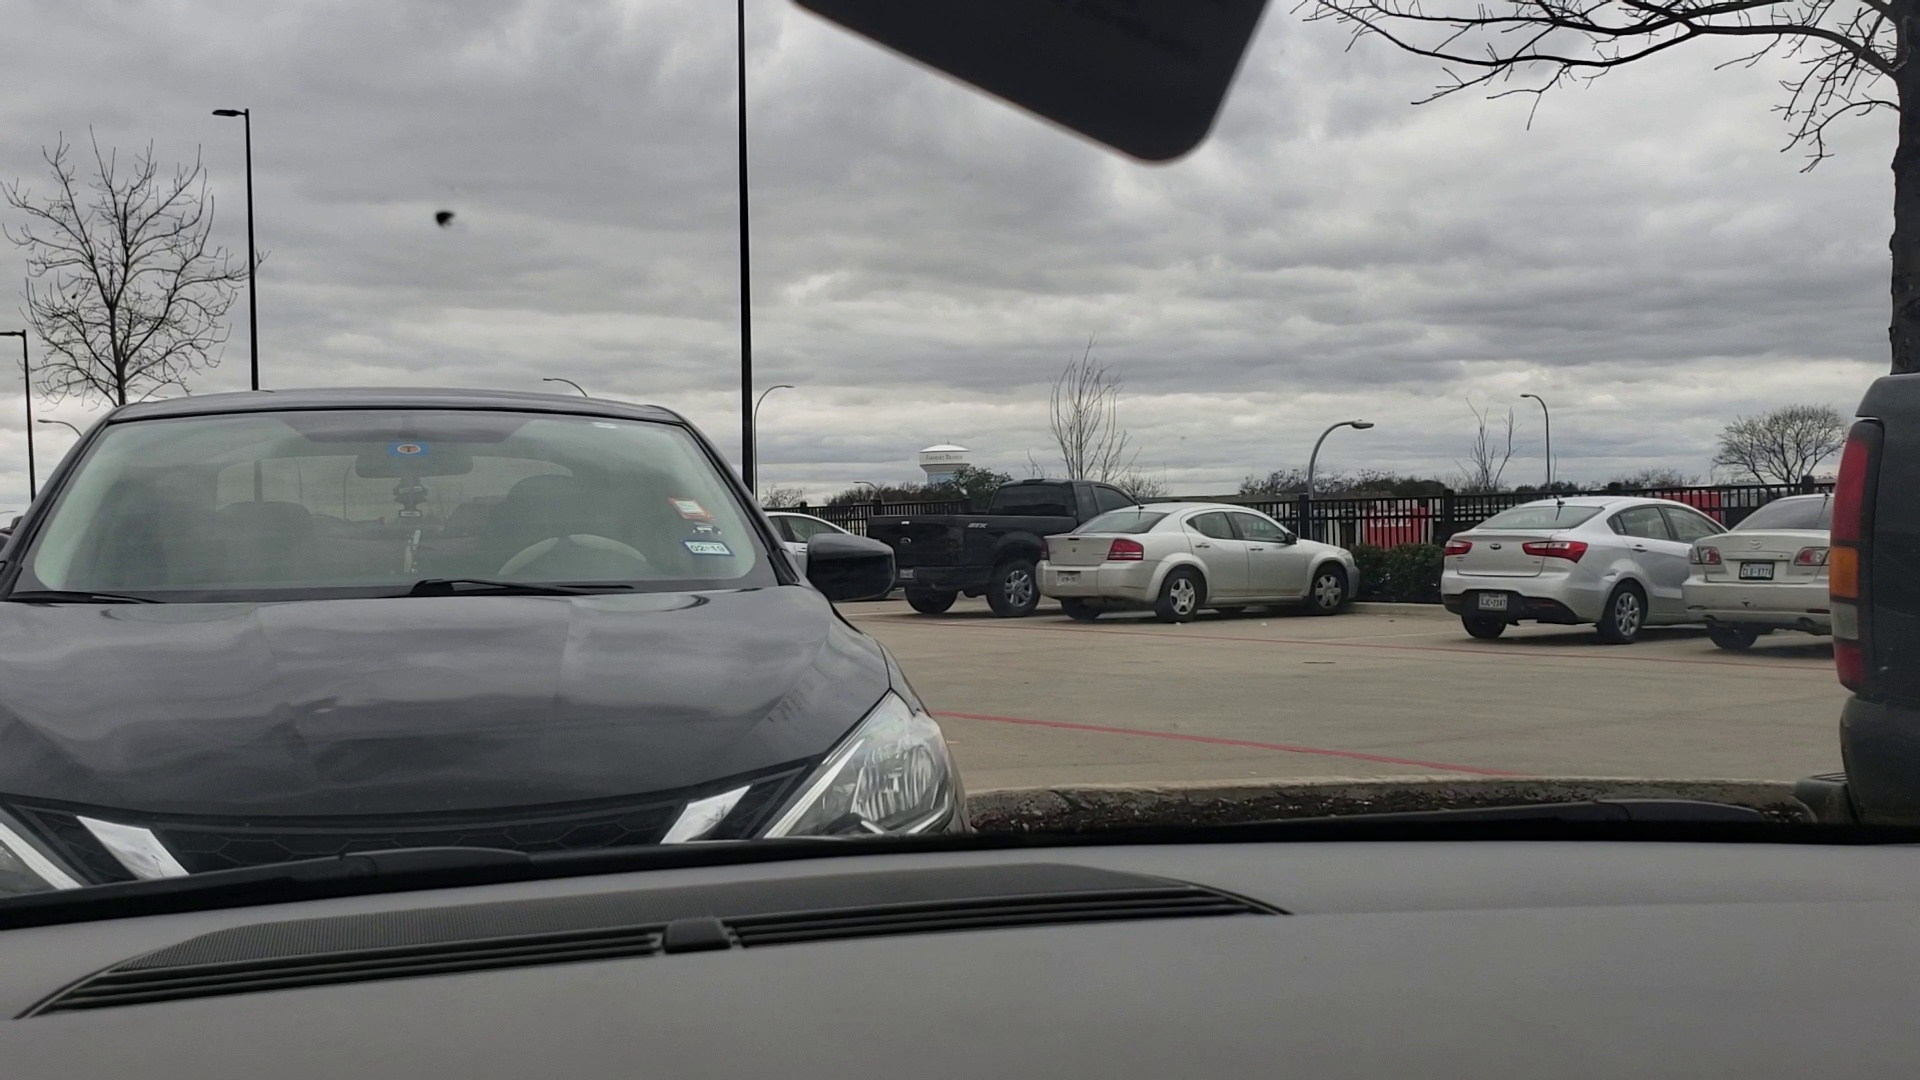car: (9, 381, 1001, 901), (1440, 480, 1716, 647), (1821, 369, 1920, 800), (1033, 513, 1366, 611), (1704, 492, 1850, 666), (748, 493, 934, 597)
truck: (869, 475, 1178, 620)
